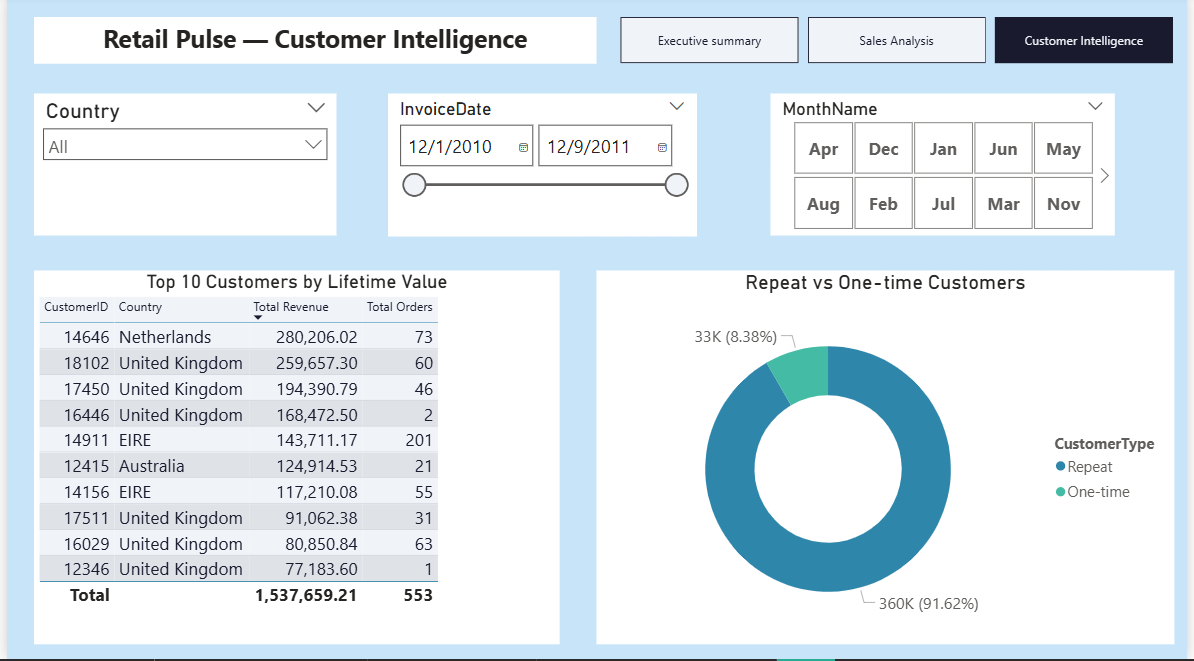

Layout of this report page (visuals, bound fields, positions):
{"tool":"powerbi","page":{"name":"Customer Intelligence","canvas":[1280,720],"ordinal":2},"visuals":[{"type":"tableEx","title":"Top 10 Customers by Lifetime Value","fields":{"Values":["retailpulse retail_sales.CustomerID","retailpulse retail_sales.Country","retailpulse retail_sales.Total Revenue","retailpulse retail_sales.Total Orders"]},"box":[30,298.3,570.3,405.2],"z":0},{"type":"donutChart","title":"Repeat vs One-time Customers","fields":{"Category":["CustomerSegments.CustomerType"],"Y":["Sum(CustomerSegments.CustomerCount)"]},"box":[639.7,298.3,626.6,405.2],"z":1000},{"type":"slicer","fields":{"Values":["retailpulse retail_sales.InvoiceDate"]},"box":[412.7,105.1,333.9,153.8],"z":2000},{"type":"slicer","fields":{"Values":["retailpulse retail_sales.Country"]},"box":[30,105.1,328.3,153.8],"z":3000},{"type":"slicer","fields":{"Values":["retailpulse retail_sales.MonthName"]},"box":[827.3,105.1,373.3,153.8],"z":4000},{"type":"textbox","box":[30,22.5,609.7,50.7],"z":5000},{"type":"pageNavigator","box":[666,22.5,600.3,50.7],"z":6000}]}

Visuals, with their boxes in screenshot pixels (x1, y1, x2, y2), scaled from the page's 1280x720 canvas onto the 1194x661 screenshot:
"Top 10 Customers by Lifetime Value" tableEx: 28 274 560 646
"Repeat vs One-time Customers" donutChart: 597 274 1181 646
slicer - retailpulse retail_sales.InvoiceDate: 385 96 696 238
slicer - retailpulse retail_sales.Country: 28 96 334 238
slicer - retailpulse retail_sales.MonthName: 772 96 1120 238
textbox: 28 21 597 67
pageNavigator: 621 21 1181 67
